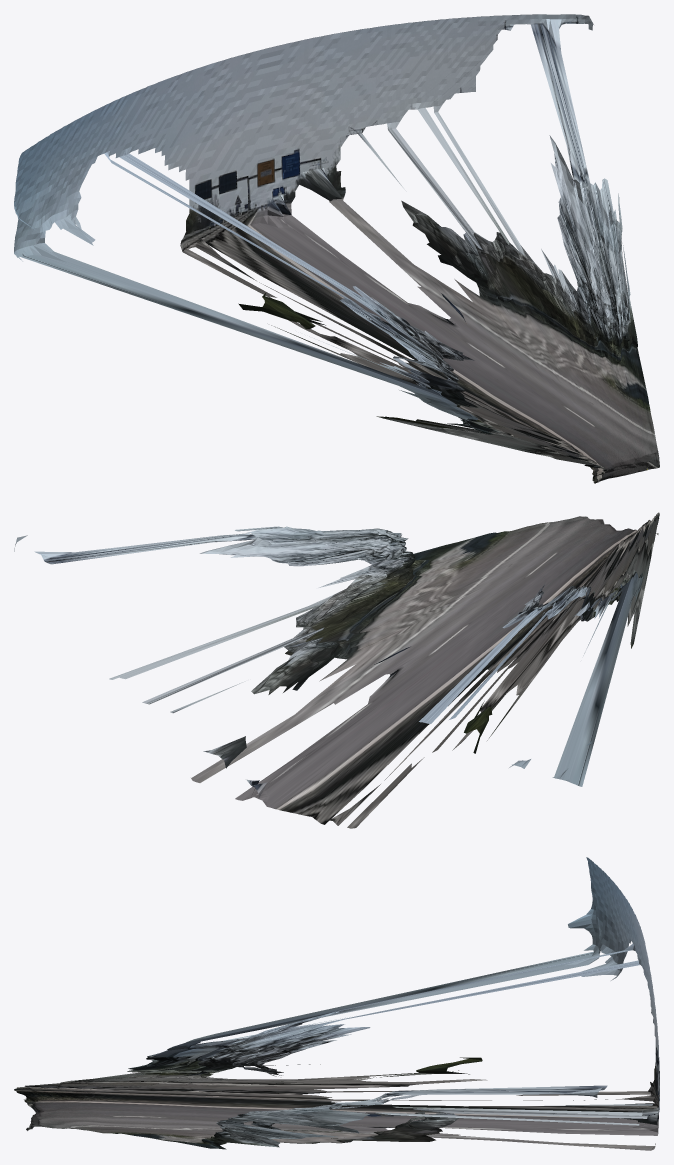
The picture shows the model from 3 angles, top to bottom: view 1: azimuth 30°, elevation 25°; view 2: azimuth 150°, elevation 25°; view 3: azimuth 270°, elevation 25°; orthographic projection. The views are drawn at different scales.
Parts seen in each view (by area): view 1: defaultobject; view 2: defaultobject; view 3: defaultobject.
Part boxes in pixels (left/top/right/bottom): defaultobject: left=14, top=14, right=659, bottom=483; defaultobject: left=14, top=512, right=659, bottom=828; defaultobject: left=14, top=857, right=659, bottom=1150.
Size of the model in its own units: 40.72 by 12.46 by 45.31.
1 material, 1 textured.
